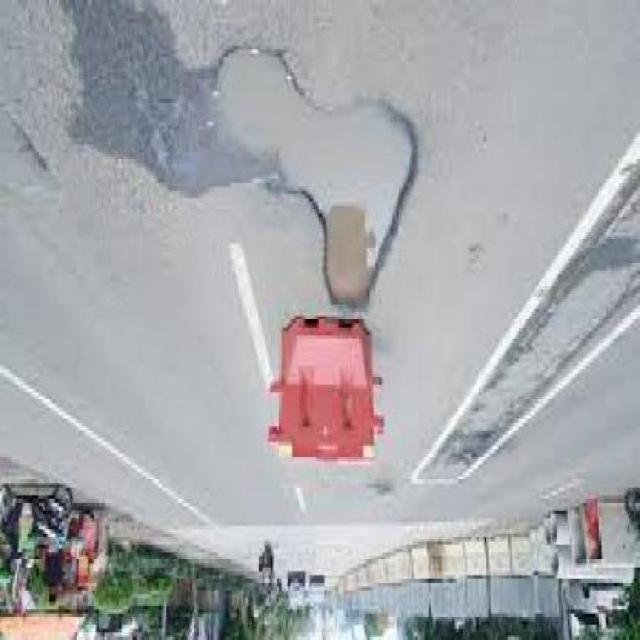pothole: (211, 38, 424, 324)
